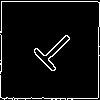T: (25, 25, 80, 80)
